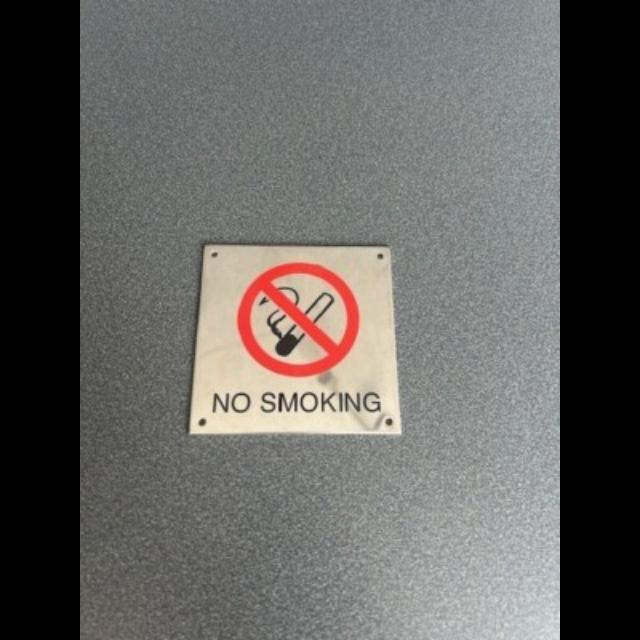cam hut thuoc: (190, 245, 398, 434)
